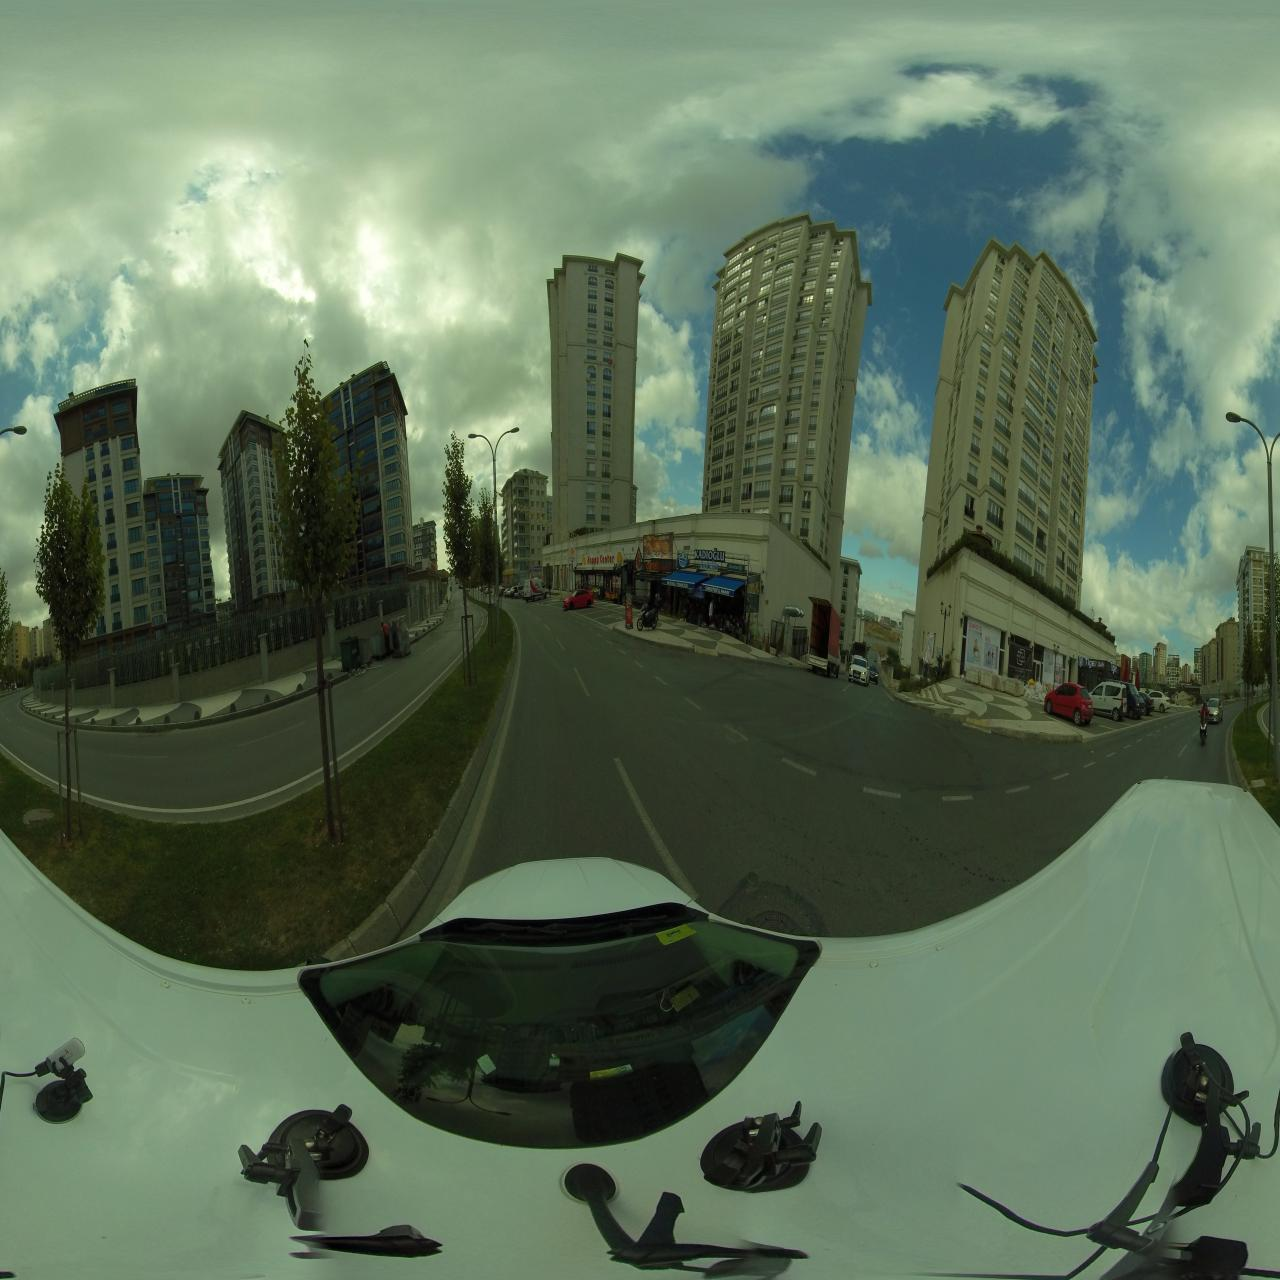SignStore: (693, 547, 727, 565), (581, 551, 624, 565), (645, 560, 670, 574), (727, 561, 745, 574)
